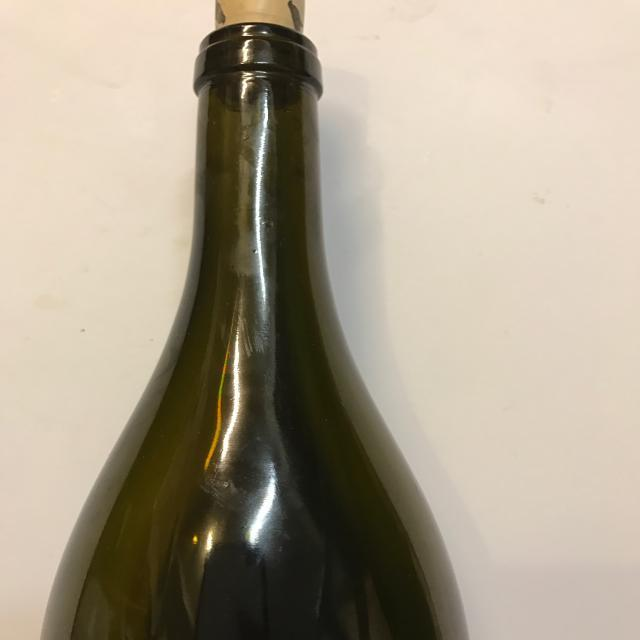glass: (36, 1, 469, 640)
